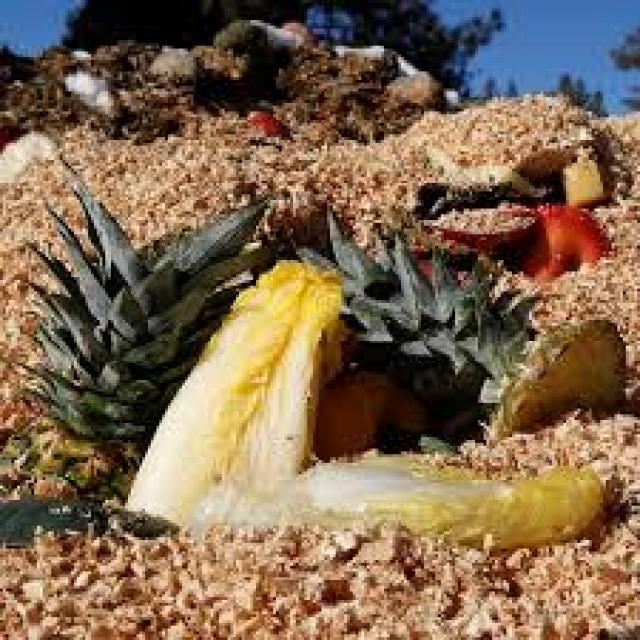food_waste: (61, 218, 604, 533)
